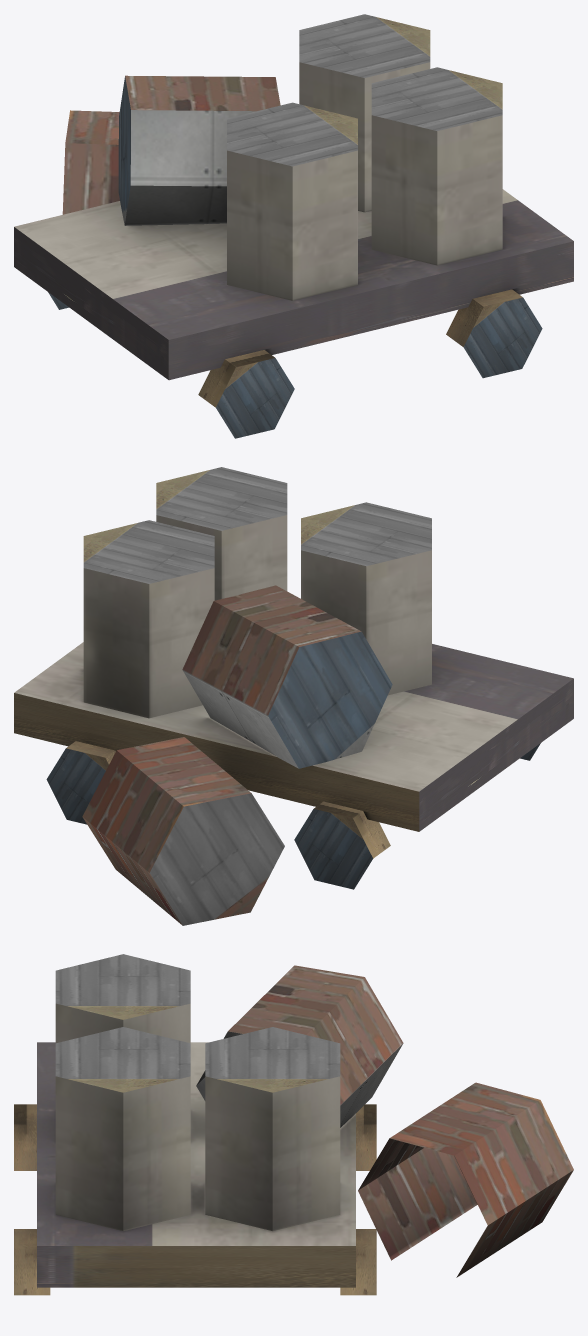
File: cargocrap.obj
3 views of the same model, one above another, from view 1: azimuth 30°, elevation 25°; view 2: azimuth 150°, elevation 25°; view 3: azimuth 270°, elevation 25° (orthographic). The views are drawn at different scales.
Visible parts, largest first — view 1: junkcrap; view 2: junkcrap; view 3: junkcrap.
Boxes of the visible parts, box(x1,y1,x2,y2) form: junkcrap: box(14, 14, 573, 438); junkcrap: box(14, 467, 573, 925); junkcrap: box(14, 954, 573, 1295).
Bounding box in the file's own units: 668 × 377 × 775.
